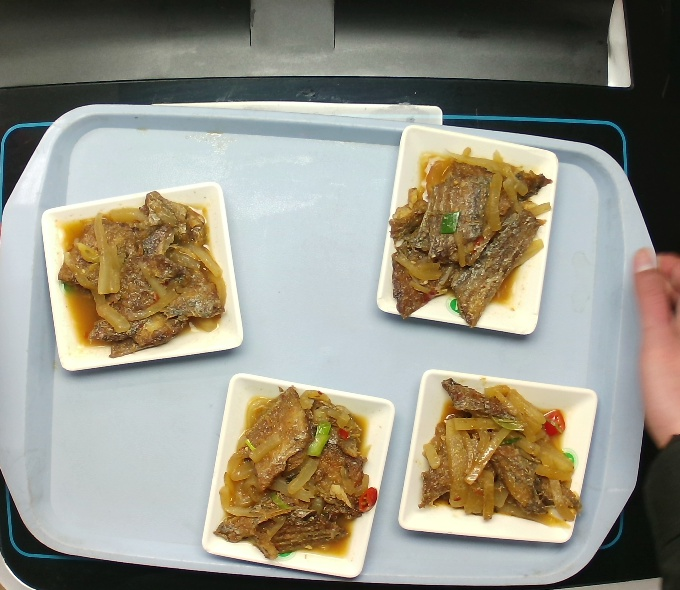wcq-DaiYu: (385, 140, 556, 333), (210, 382, 384, 566), (53, 187, 231, 366), (413, 374, 589, 532)
